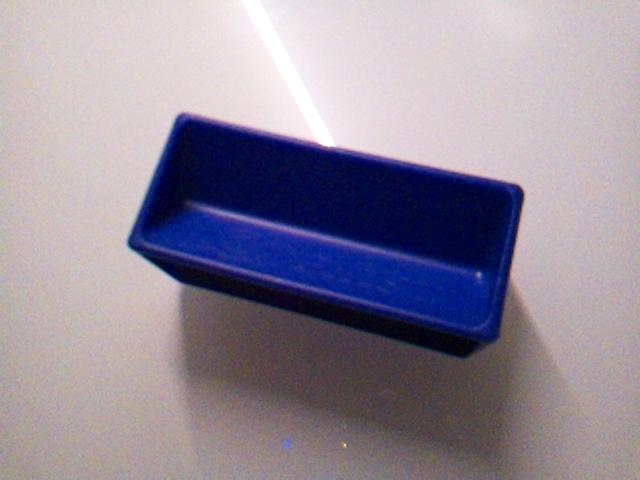blue: (126, 110, 526, 358)
